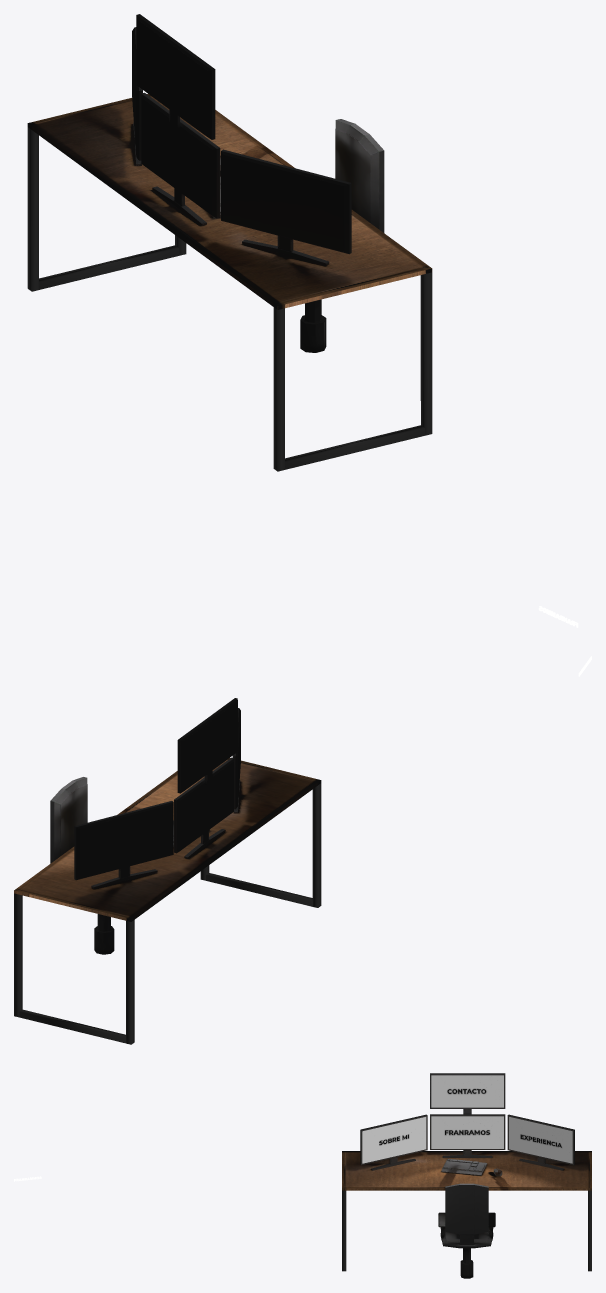
The picture shows the model from 3 angles, top to bottom: view 1: azimuth 30°, elevation 25°; view 2: azimuth 150°, elevation 25°; view 3: azimuth 270°, elevation 25°; orthographic projection. The views are drawn at different scales.
Parts seen in each view (by area): view 1: Mesa lowpoly, Monitor lowpoly.001, Monitor lowpoly, Monitor lowpoly.003, Silla low poly, Monitor lowpoly.002; view 2: Mesa lowpoly, Monitor lowpoly.002, Monitor lowpoly, Monitor lowpoly.003, Silla low poly, Monitor lowpoly.001; view 3: Mesa lowpoly, Silla low poly, contacto, Franramos, sobre_mi, experiencia, Monitor lowpoly.002, Monitor lowpoly.001, Monitor lowpoly, Teclado low poly, Monitor lowpoly.003.
Boxes of the visible parts, x1=… form: Mesa lowpoly: x1=27, y1=94, x2=432, y2=471; Monitor lowpoly.001: x1=221, y1=149, x2=351, y2=265; Monitor lowpoly: x1=141, y1=92, x2=220, y2=225; Monitor lowpoly.003: x1=136, y1=14, x2=215, y2=139; Silla low poly: x1=300, y1=119, x2=384, y2=352; Monitor lowpoly.002: x1=132, y1=27, x2=142, y2=165; Mesa lowpoly: x1=14, y1=758, x2=321, y2=1044; Monitor lowpoly.002: x1=74, y1=801, x2=173, y2=888; Monitor lowpoly: x1=174, y1=757, x2=233, y2=858; Monitor lowpoly.003: x1=177, y1=698, x2=237, y2=793; Silla low poly: x1=50, y1=777, x2=114, y2=954; Monitor lowpoly.001: x1=232, y1=708, x2=240, y2=813; Mesa lowpoly: x1=342, y1=1151, x2=591, y2=1271; Silla low poly: x1=438, y1=1183, x2=495, y2=1278; contacto: x1=431, y1=1075, x2=503, y2=1107; Franramos: x1=431, y1=1116, x2=503, y2=1148; sobre_mi: x1=362, y1=1117, x2=426, y2=1163; experiencia: x1=509, y1=1117, x2=572, y2=1163; Monitor lowpoly.002: x1=507, y1=1114, x2=574, y2=1170; Monitor lowpoly.001: x1=360, y1=1114, x2=427, y2=1170; Monitor lowpoly: x1=430, y1=1114, x2=505, y2=1157; Teclado low poly: x1=441, y1=1158, x2=487, y2=1175; Monitor lowpoly.003: x1=430, y1=1073, x2=505, y2=1114.
Size of the model in its own units: 3.24 by 4.19 by 12.96.
14 materials, 12 textured.
